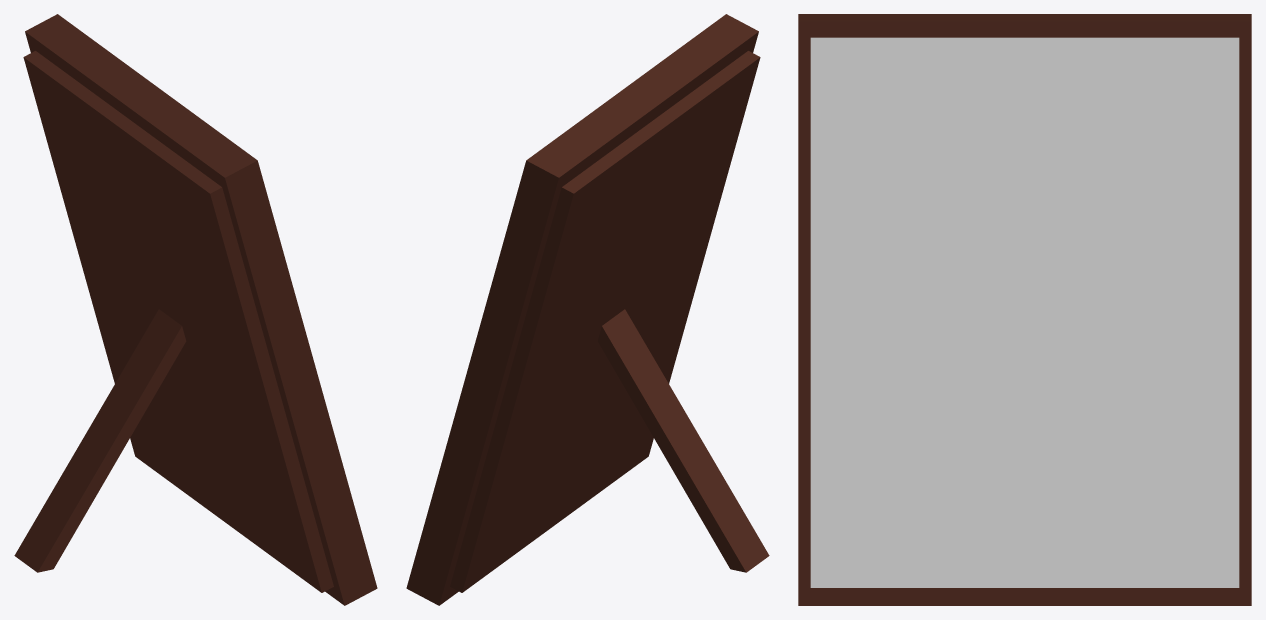
Rendered from portrait.glb.
3 views of the same model, side by side, from view 1: azimuth 30°, elevation 25°; view 2: azimuth 150°, elevation 25°; view 3: azimuth 270°, elevation 25° (orthographic). The views are drawn at different scales.
Parts seen in each view (by area): view 1: Cube; view 2: Cube; view 3: Cube.
Part boxes in pixels (x1=…): Cube: x1=14, y1=14, x2=377, y2=605; Cube: x1=406, y1=14, x2=769, y2=605; Cube: x1=798, y1=14, x2=1251, y2=605.
Size of the model in its own units: 0.2346 by 0.4159 by 0.3231.
